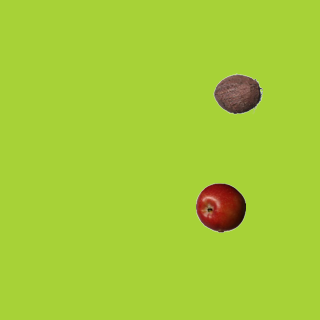Apple Braeburn: (195, 182, 245, 232)
Cocos: (212, 68, 262, 118)
